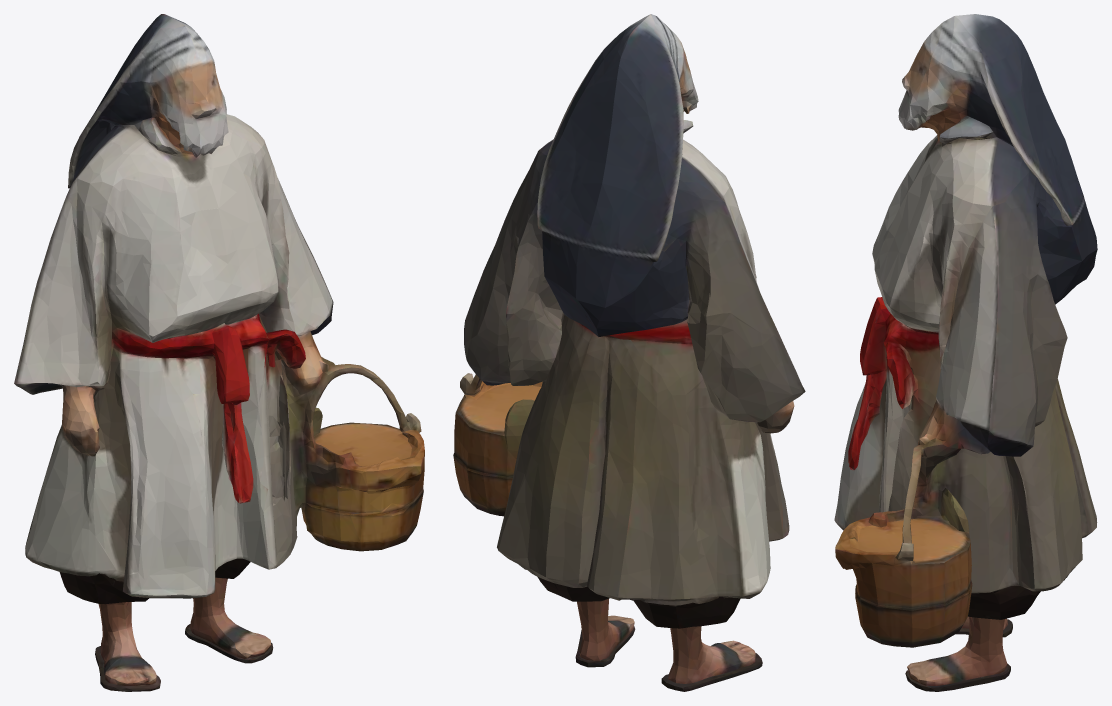
File: anime_medieval_commoner.glb
3 renders of one model, left to right at view 1: azimuth 30°, elevation 25°; view 2: azimuth 150°, elevation 25°; view 3: azimuth 270°, elevation 25°, orthographic.
Parts seen in each view (by area): view 1: geometry_0; view 2: geometry_0; view 3: geometry_0.
Part boxes in pixels (left/top/right/bottom): geometry_0: left=14, top=14, right=424, bottom=691; geometry_0: left=453, top=14, right=805, bottom=691; geometry_0: left=834, top=14, right=1097, bottom=691.
Bounding box in the file's own units: 0.6121 × 0.9983 × 0.3717.
1 material, 1 textured.
